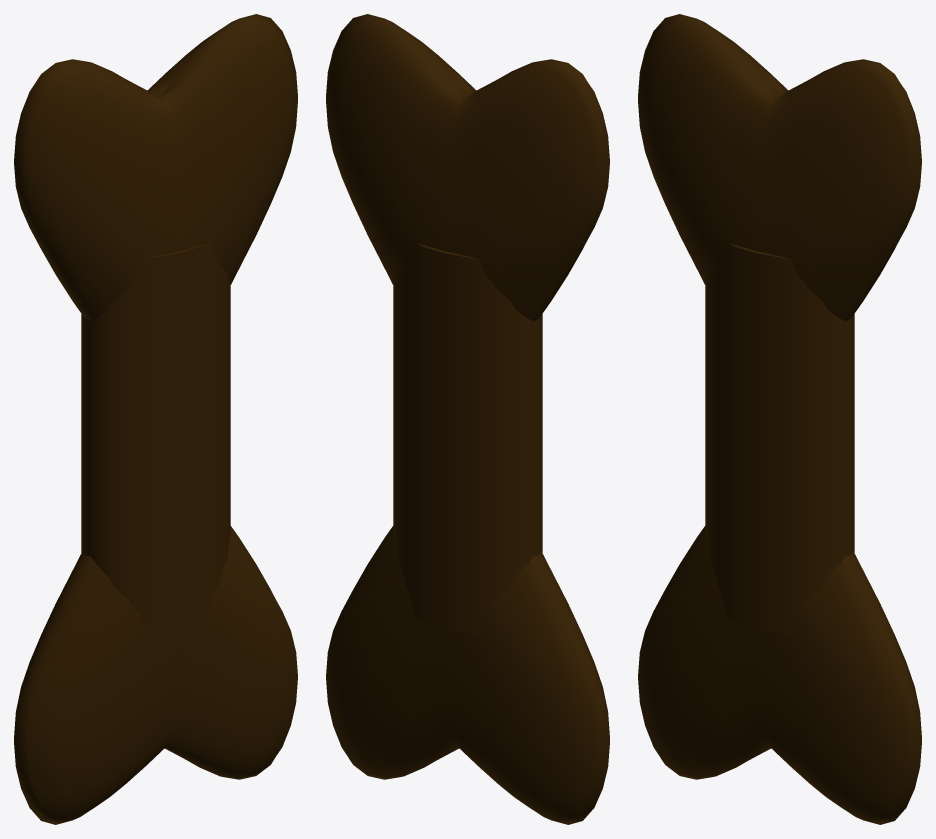
File: mama3.fbx
3 renders of one model, left to right at view 1: azimuth 30°, elevation 25°; view 2: azimuth 150°, elevation 25°; view 3: azimuth 330°, elevation 25°, orthographic.
Parts seen in each view (by area): view 1: group1_pasted__ffd1Lattice3; view 2: group1_pasted__ffd1Lattice3; view 3: group1_pasted__ffd1Lattice3.
Boxes of the visible parts, left/top/right/bottom form: group1_pasted__ffd1Lattice3: left=14, top=14, right=297, bottom=824; group1_pasted__ffd1Lattice3: left=326, top=14, right=609, bottom=824; group1_pasted__ffd1Lattice3: left=638, top=14, right=921, bottom=824.
Size of the model in its own units: 0.2 by 0.5131 by 0.0595.
